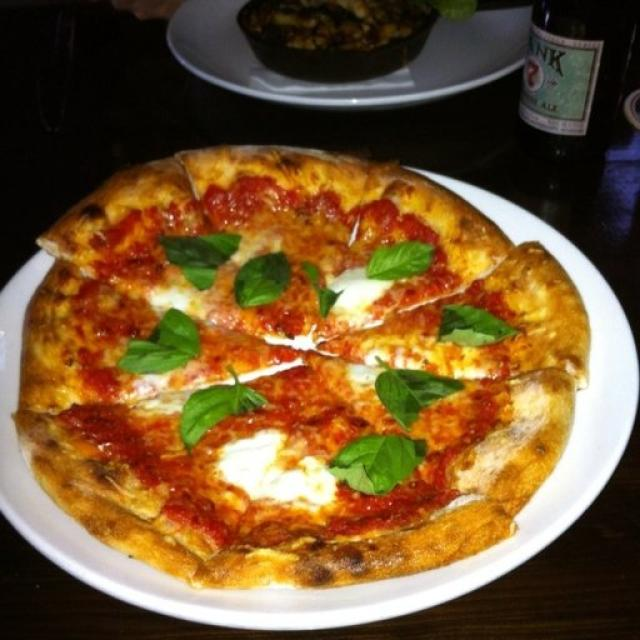Basil: (185, 366, 261, 444), (372, 357, 462, 416), (156, 231, 240, 291), (337, 439, 427, 495), (128, 307, 200, 371), (226, 248, 295, 308), (443, 302, 518, 345), (371, 239, 434, 280), (304, 262, 338, 316)
Beef: (24, 148, 588, 591)
Cheese: (220, 428, 338, 506), (342, 271, 376, 318), (150, 285, 193, 307), (353, 367, 378, 386)
Pizza: (9, 148, 589, 606)
